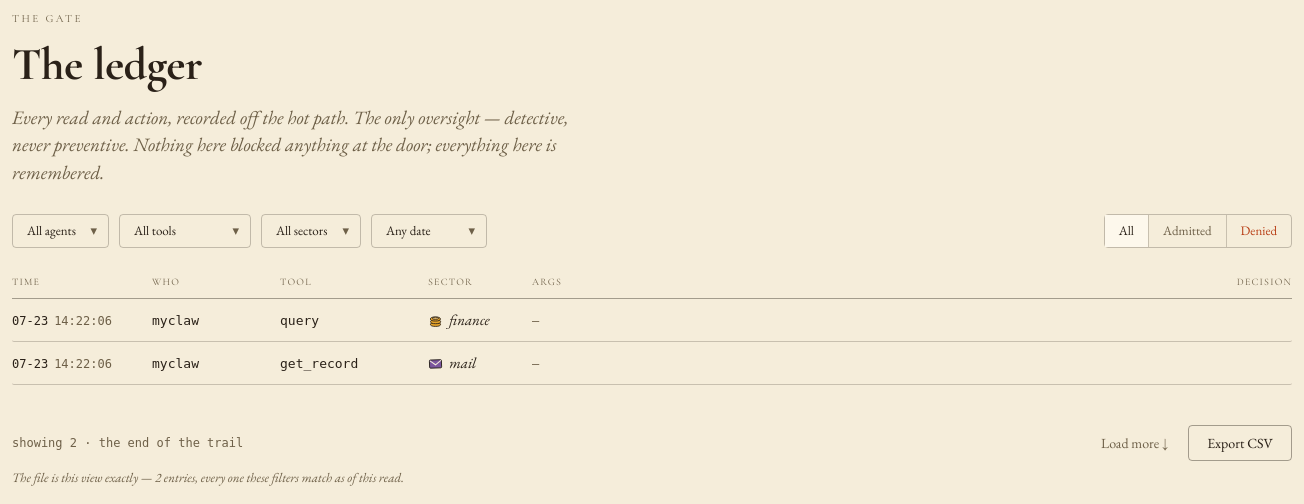
Scenario: #61 part 1 — the sector filter is drawn and reaches the wire › choosing a sector sends `sector` on the wire and narrows the view
Expected: the text "get_record" is shown, [280, 356, 358, 371]
Select "Finance" in the dropdown named "Filter by sector" at (311, 231), box [261, 214, 361, 248]
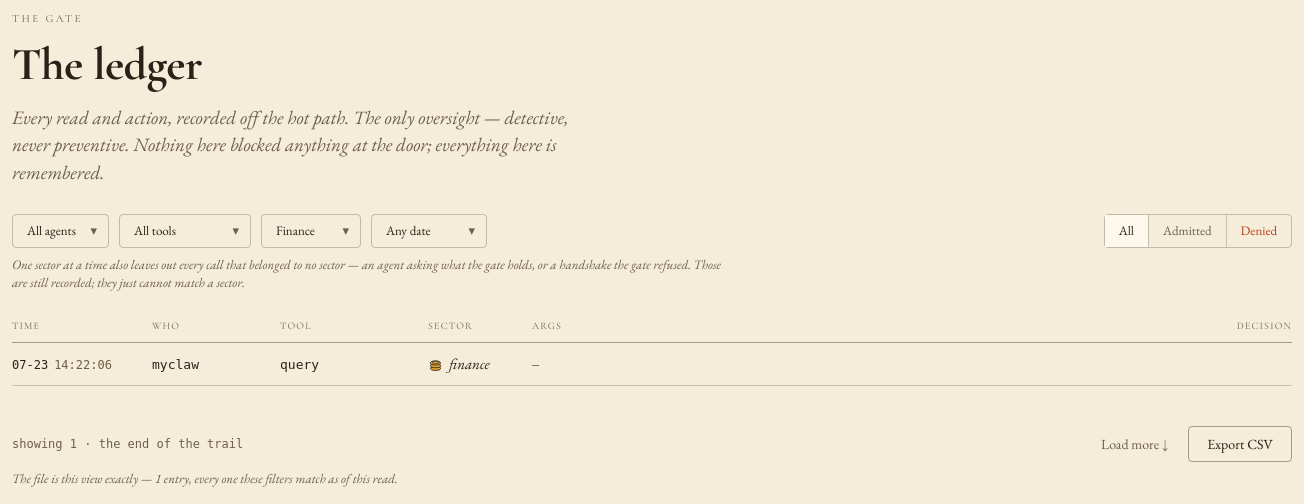
Expected: the text "query" is shown, [280, 357, 319, 372]
Expected: the text "get_record" is gone
